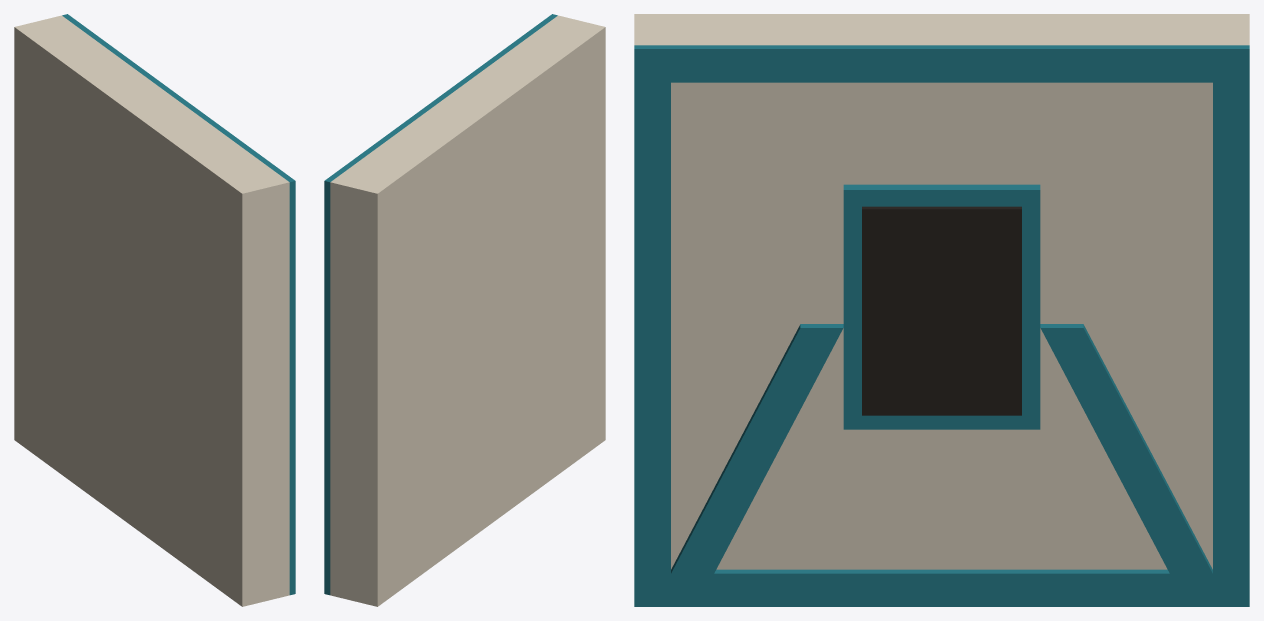
Rendered from wall-timber.glb.
The picture shows the model from 3 angles, left to right: view 1: azimuth 30°, elevation 25°; view 2: azimuth 150°, elevation 25°; view 3: azimuth 270°, elevation 25°; orthographic projection. The views are drawn at different scales.
Parts seen in each view (by area): view 1: wall-timber; view 2: wall-timber; view 3: wall-timber.
Boxes of the visible parts, <box> form: wall-timber: <box>14,14,295,606</box>; wall-timber: <box>324,14,605,606</box>; wall-timber: <box>634,14,1249,606</box>.
Bounding box in the file's own units: 0.15 × 1 × 1.
